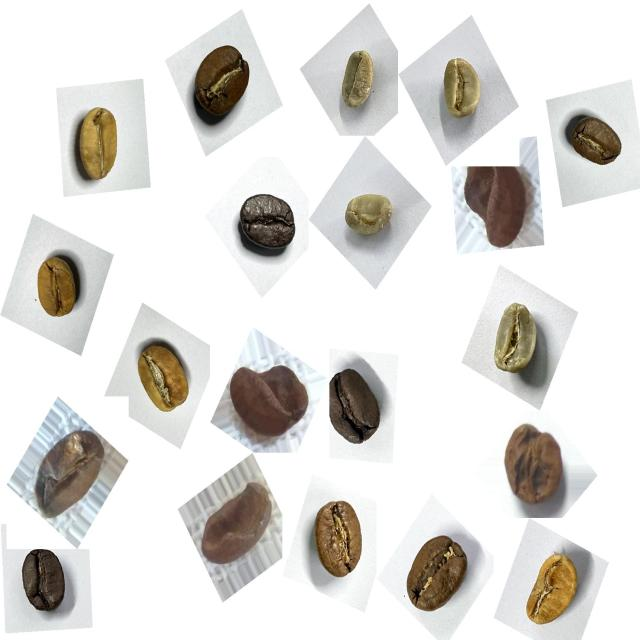bad: (226, 351, 317, 451), (27, 422, 111, 530), (457, 155, 539, 260), (193, 473, 273, 580), (493, 413, 575, 513)
dark: (318, 355, 392, 456), (229, 181, 303, 267), (10, 544, 76, 624)
green: (480, 294, 552, 388), (429, 48, 493, 131), (335, 181, 402, 252), (330, 41, 386, 122)
light: (61, 97, 133, 196), (127, 330, 200, 426), (519, 544, 590, 638), (27, 246, 92, 333)
medium: (396, 527, 479, 627), (301, 488, 379, 591), (183, 35, 261, 132), (560, 106, 632, 182)
